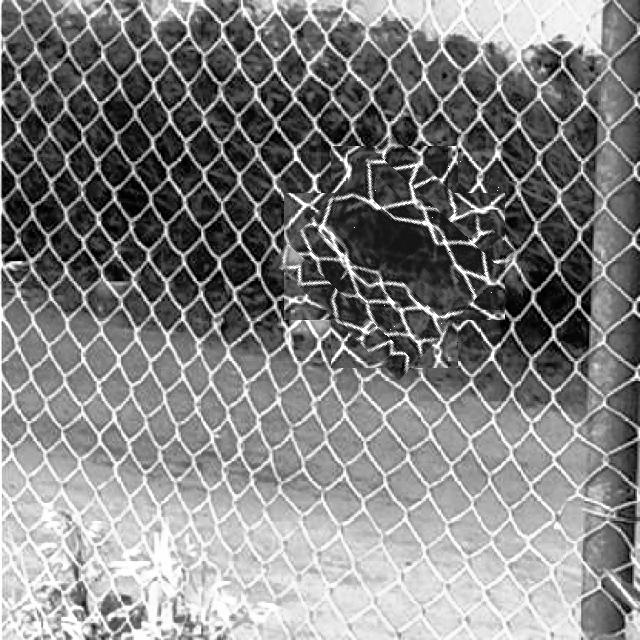anomaly-fence: (289, 152, 500, 362)
